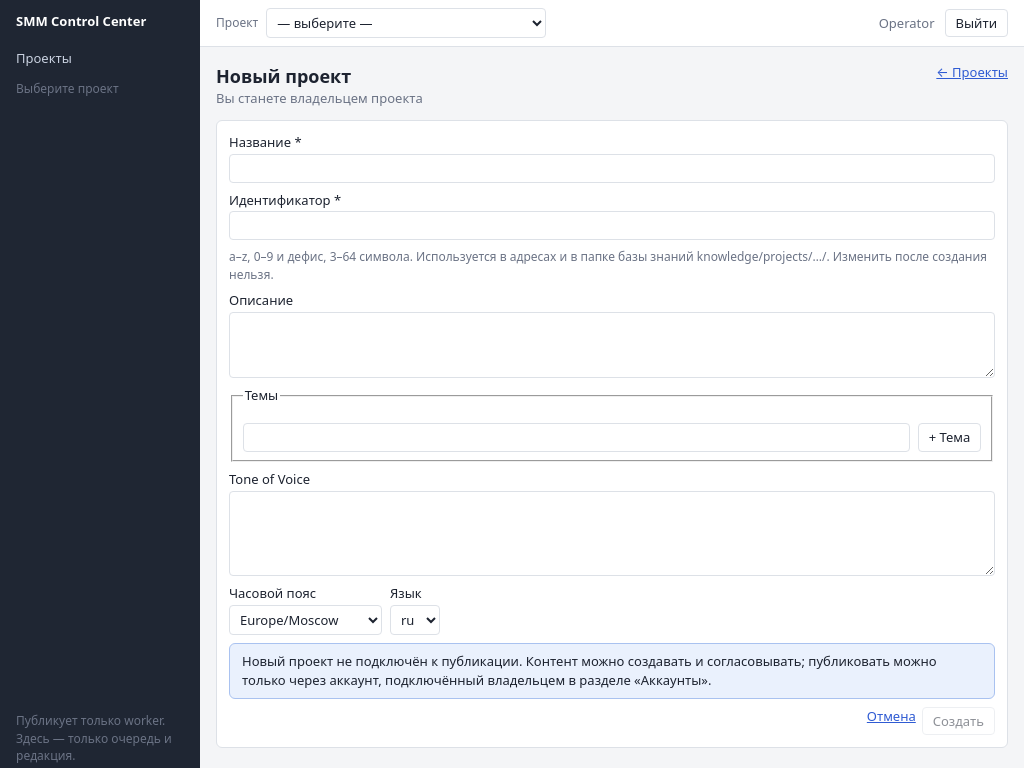
Test: create a project › a taken id is reported on the id field
Type "Demo" into the field labelled "Название *" at coordinates (612, 168), box [229,154,995,183]
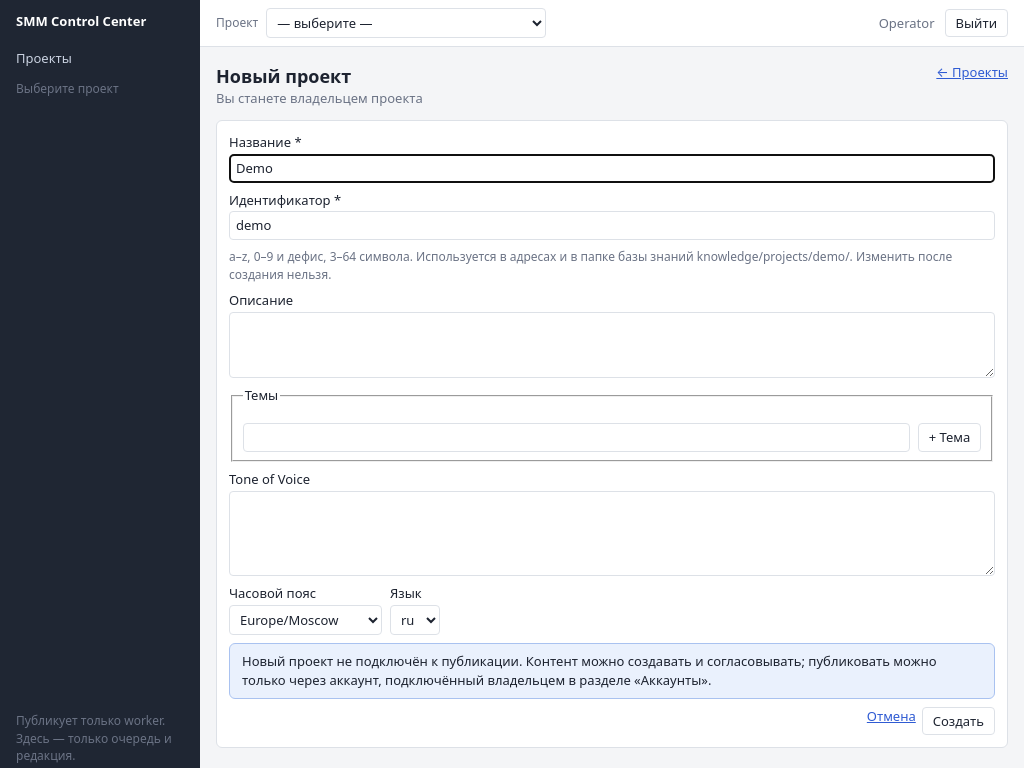
Replace the text in the field labelled "Идентификатор *" with "demo-two" at coordinates (612, 226), box [229,212,995,240]
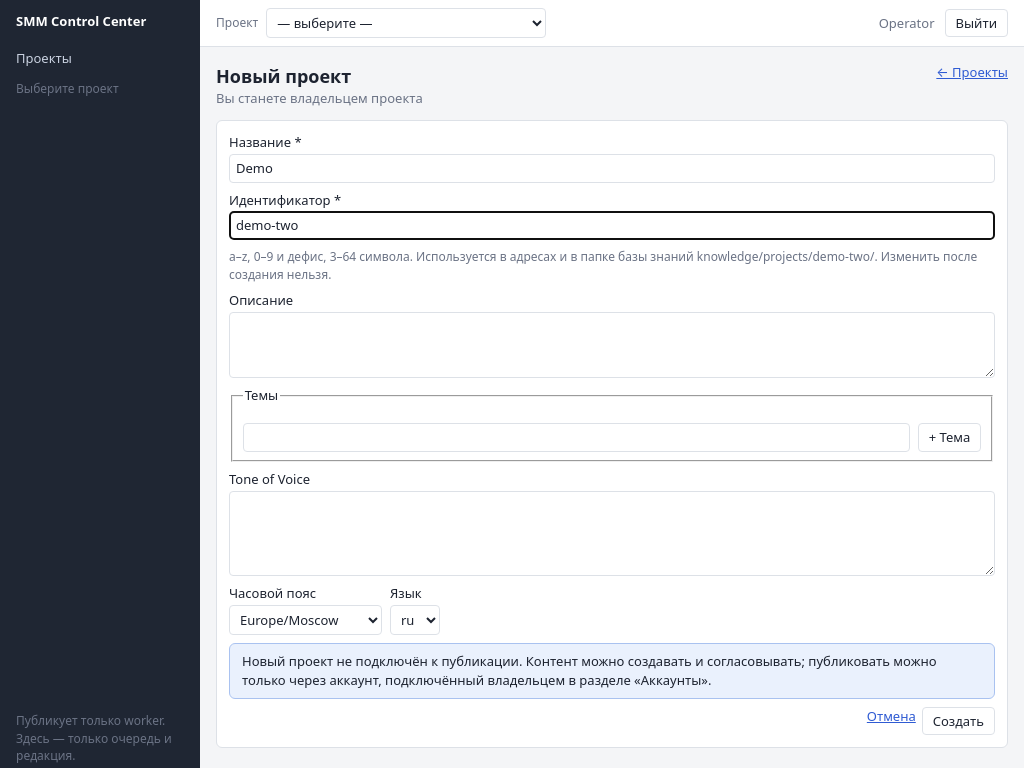
Click the button "Создать" at coordinates (958, 721), box [922,707,995,735]
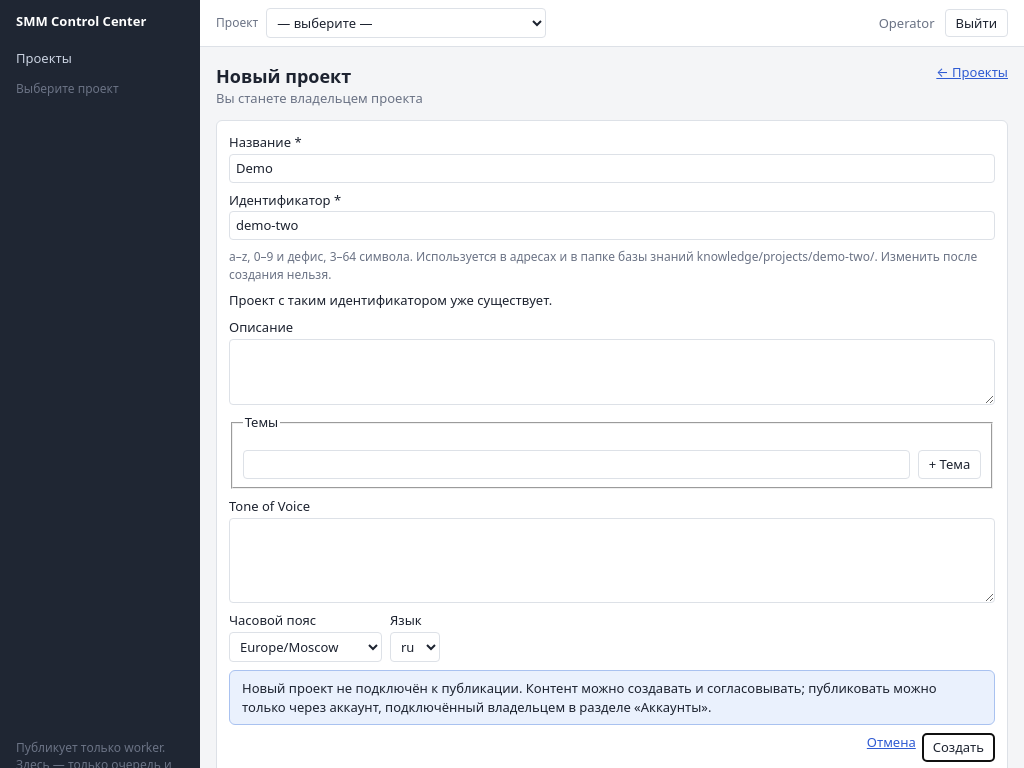
Now the text "Проект с таким идентификатором уже существует." is shown, box [229,291,552,309]
